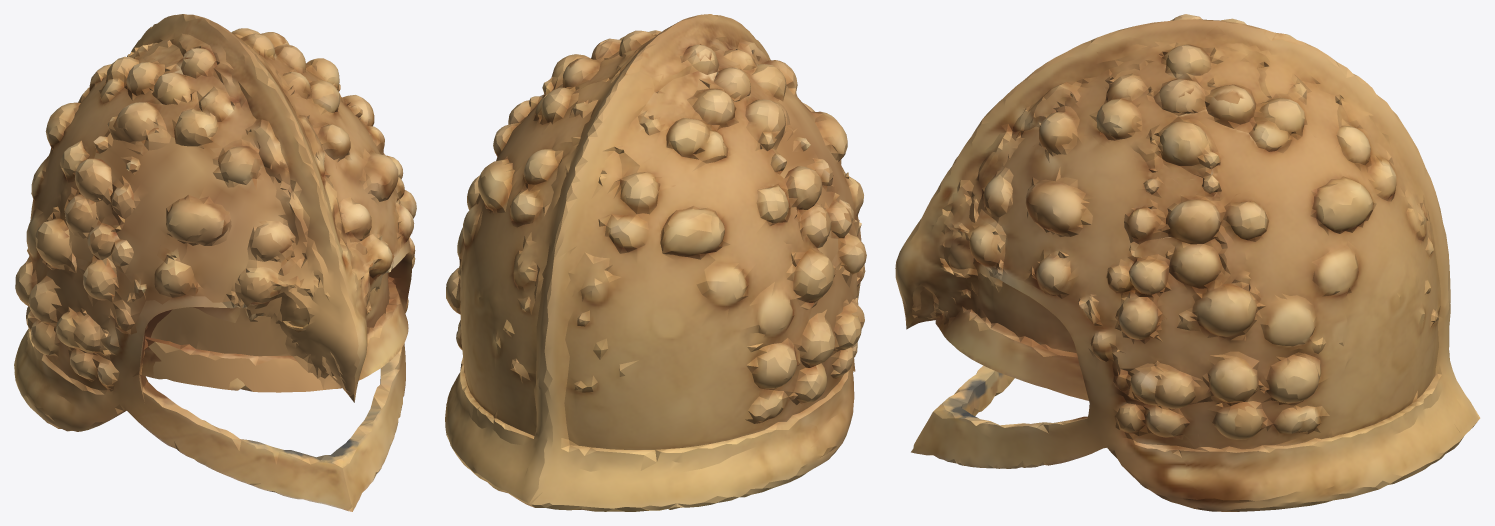
The picture shows the model from 3 angles, left to right: view 1: azimuth 30°, elevation 25°; view 2: azimuth 150°, elevation 25°; view 3: azimuth 270°, elevation 25°; orthographic projection. The views are drawn at different scales.
Visible parts, largest first — view 1: AcornHelm; view 2: AcornHelm; view 3: AcornHelm.
Part boxes in pixels (bbox=[...]): AcornHelm: bbox=[14, 14, 416, 511]; AcornHelm: bbox=[445, 14, 866, 511]; AcornHelm: bbox=[895, 14, 1480, 511].
Bounding box in the file's own units: 1.46 × 1.54 × 1.89.
1 material, 1 textured.
